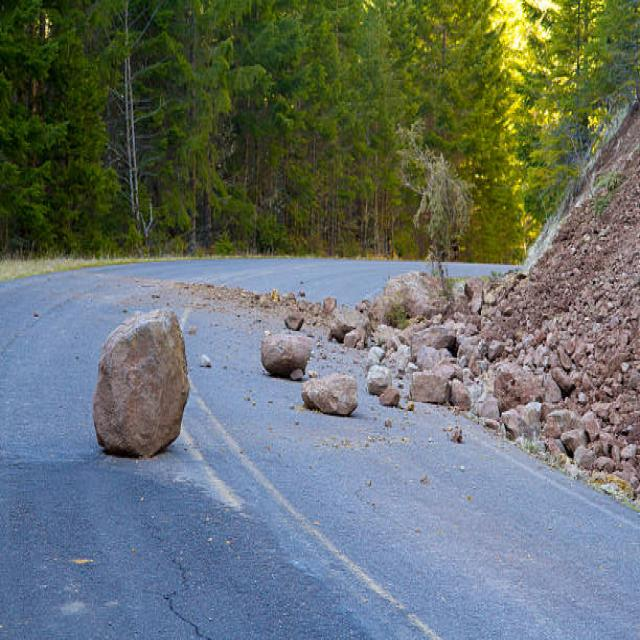landSliding: (116, 198, 635, 544)
